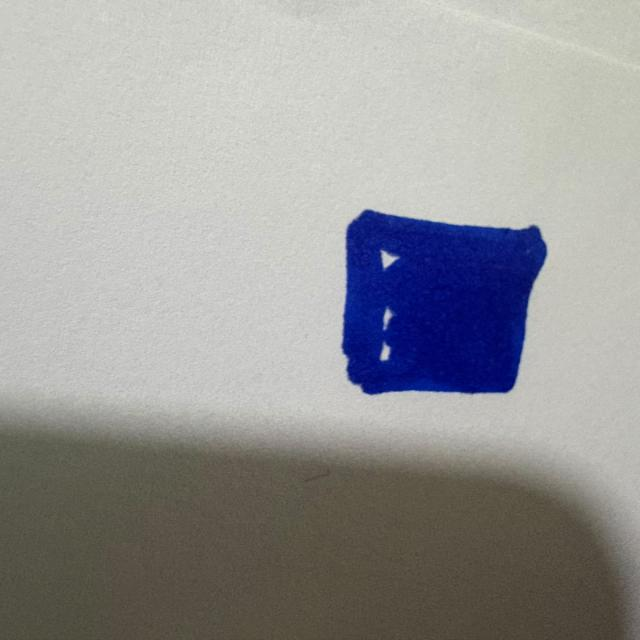Square: (341, 210, 547, 396)
